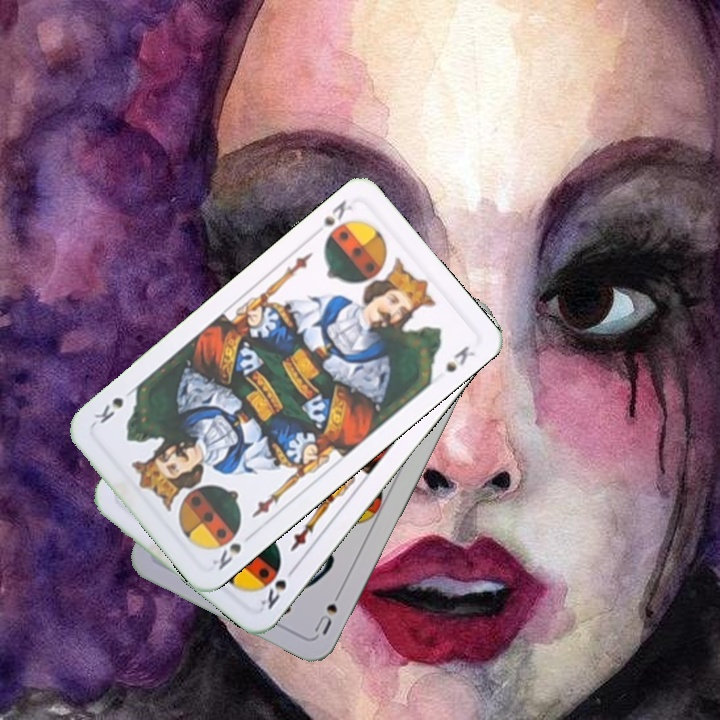SK: (310, 195, 356, 246), (256, 562, 299, 613), (208, 539, 244, 573)
SU: (310, 583, 346, 638)
